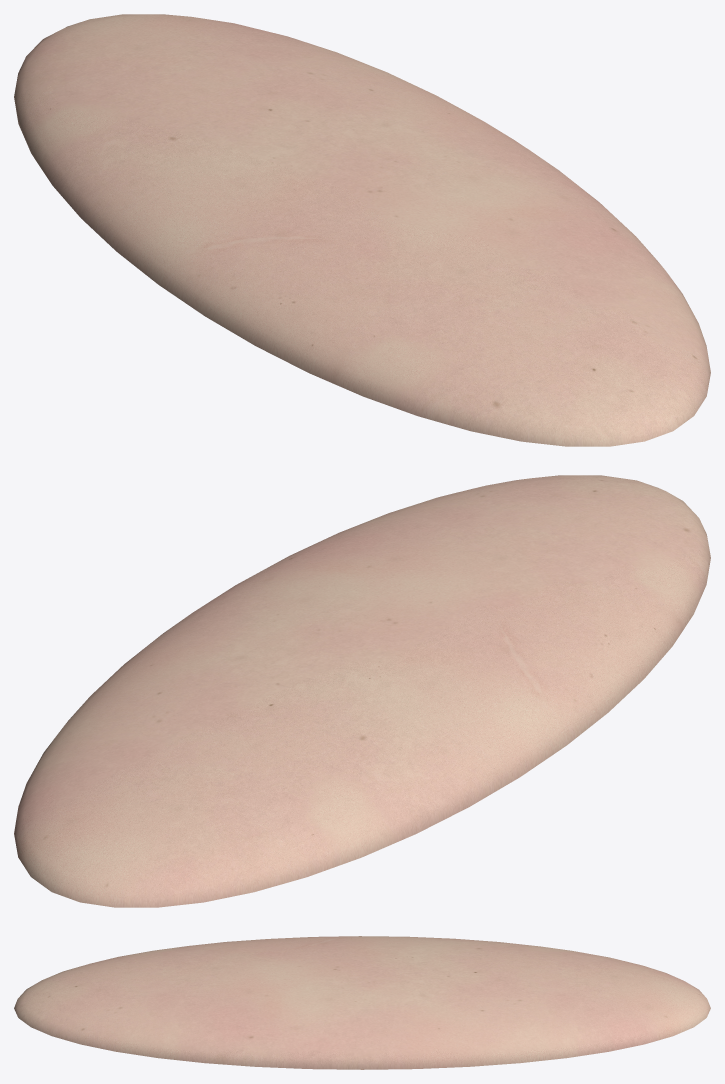
The model's file is CosentyxS1.gltf.
3 renders of one model, top to bottom at view 1: azimuth 30°, elevation 25°; view 2: azimuth 150°, elevation 25°; view 3: azimuth 270°, elevation 25°, orthographic. The views are drawn at different scales.
Parts seen in each view (by area): view 1: PIEL; view 2: PIEL; view 3: PIEL.
Part boxes in pixels (x1,y1,x2,y2): PIEL: (14,14,710,446); PIEL: (14,475,710,907); PIEL: (14,936,710,1069).
Size of what is drawn, in the model's own units: 1.27 by 0.1822 by 3.04.
1 material, 1 textured.
